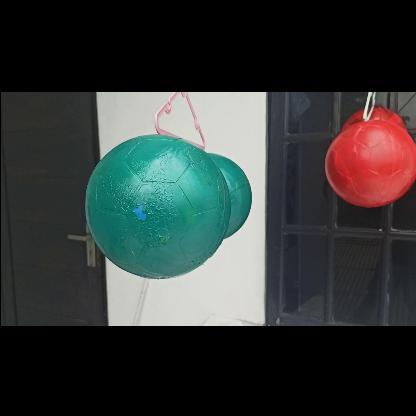red_ball: (325, 117, 415, 210)
